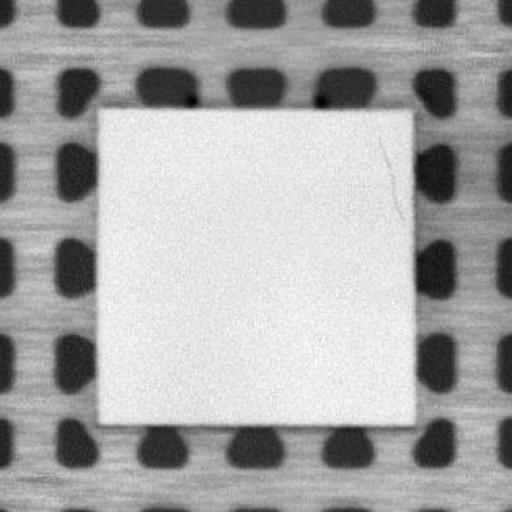DIE_CRACK: (375, 132, 405, 220)
